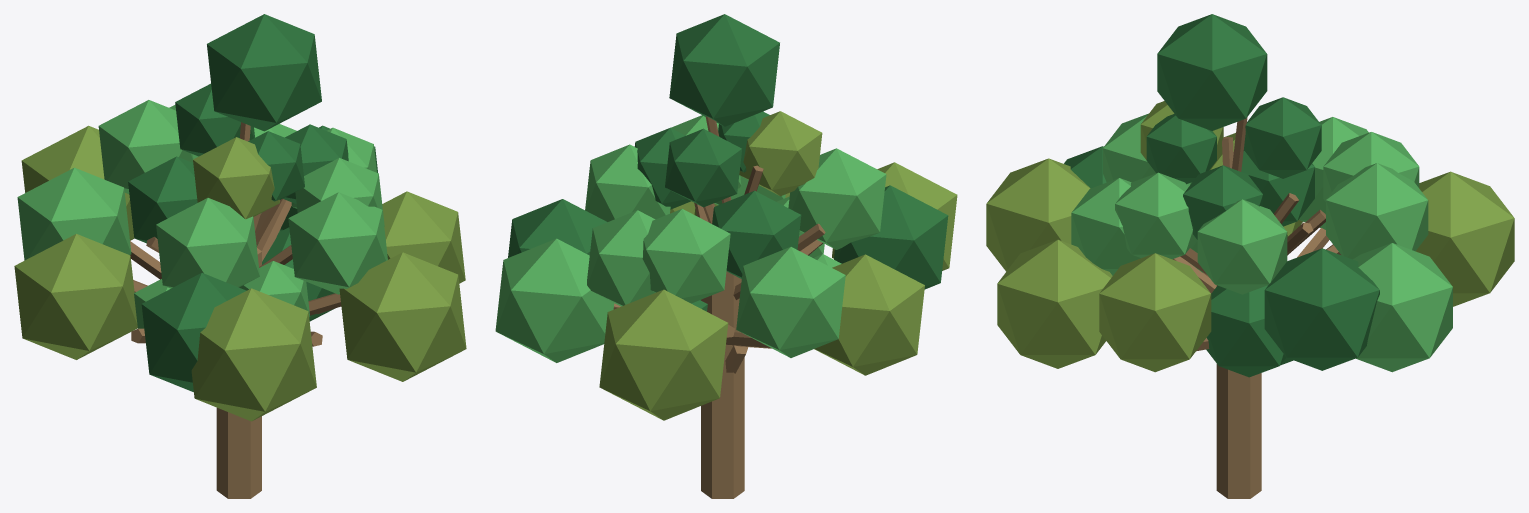
The model's file is Tree_14.glb.
3 renders of one model, left to right at view 1: azimuth 30°, elevation 25°; view 2: azimuth 150°, elevation 25°; view 3: azimuth 270°, elevation 25°, orthographic. The views are drawn at different scales.
Visible parts, largest first — view 1: T14_Sphere_09, T14_Sphere_05, T14_Sphere_08, T14_Sphere_03, T14_Sphere_14, T14_Sphere_12, T14_Sphere_18, T14_Sphere_13, T14_Sphere_20, T14_Sphere_10, T14_Sphere_23, T14_Sphere_17 (+13 smaller); view 2: T14_Sphere_07, T14_Sphere_11, T14_Sphere_03, T14_Sphere_12, T14_Sphere_08, T14_Sphere_18, T14_Sphere_20, T14_Trunk, T14_Sphere_13, T14_Sphere_16, T14_Sphere_23, T14_Sphere_17 (+6 smaller); view 3: T14_Sphere_05, T14_Sphere_06, T14_Sphere_10, T14_Sphere_03, T14_Sphere_07, T14_Sphere_11, T14_Sphere_16, T14_Sphere_09, T14_Sphere_15, T14_Trunk, T14_Sphere_19, T14_Sphere_02 (+10 smaller).
Part boxes in pixels (left/top/right/bottom): T14_Sphere_09: left=191, top=288, right=316, bottom=421; T14_Sphere_05: left=339, top=252, right=466, bottom=381; T14_Sphere_08: left=14, top=234, right=137, bottom=359; T14_Sphere_03: left=207, top=14, right=321, bottom=131; T14_Sphere_14: left=288, top=192, right=387, bottom=294; T14_Sphere_12: left=17, top=167, right=131, bottom=260; T14_Sphere_18: left=156, top=198, right=259, bottom=288; T14_Sphere_13: left=141, top=273, right=246, bottom=392; T14_Sphere_20: left=98, top=100, right=193, bottom=193; T14_Sphere_10: left=382, top=191, right=465, bottom=283; T14_Sphere_23: left=193, top=137, right=279, bottom=219; T14_Sphere_17: left=128, top=156, right=197, bottom=243; T14_Sphere_07: left=599, top=289, right=728, bottom=420; T14_Sphere_11: left=495, top=238, right=614, bottom=362; T14_Sphere_03: left=669, top=14, right=779, bottom=126; T14_Sphere_12: left=736, top=247, right=845, bottom=357; T14_Sphere_08: left=814, top=254, right=924, bottom=375; T14_Sphere_18: left=788, top=148, right=886, bottom=249; T14_Sphere_20: left=642, top=208, right=730, bottom=303; T14_Trunk: left=701, top=271, right=744, bottom=498; T14_Sphere_13: left=834, top=185, right=948, bottom=289; T14_Sphere_16: left=587, top=210, right=655, bottom=306; T14_Sphere_23: left=739, top=111, right=822, bottom=196; T14_Sphere_17: left=712, top=190, right=801, bottom=278; T14_Sphere_05: left=997, top=239, right=1112, bottom=368; T14_Sphere_06: left=1264, top=248, right=1379, bottom=370; T14_Sphere_10: left=1099, top=253, right=1211, bottom=372; T14_Sphere_03: left=1157, top=14, right=1267, bottom=130; T14_Sphere_07: left=1415, top=171, right=1514, bottom=306; T14_Sphere_11: left=1353, top=243, right=1452, bottom=372; T14_Sphere_16: left=1326, top=163, right=1428, bottom=259; T14_Sphere_09: left=986, top=158, right=1090, bottom=271; T14_Sphere_15: left=1197, top=199, right=1287, bottom=294; T14_Trunk: left=1216, top=285, right=1261, bottom=498; T14_Sphere_19: left=1115, top=172, right=1196, bottom=259; T14_Sphere_02: left=1206, top=285, right=1286, bottom=377.
Bounding box in the file's own units: 2.37 × 2.83 × 2.81.
